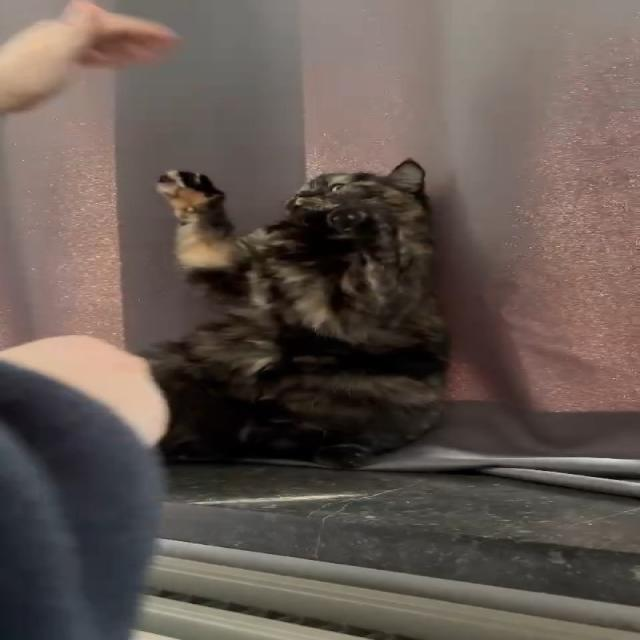authorized: (137, 157, 452, 469)
